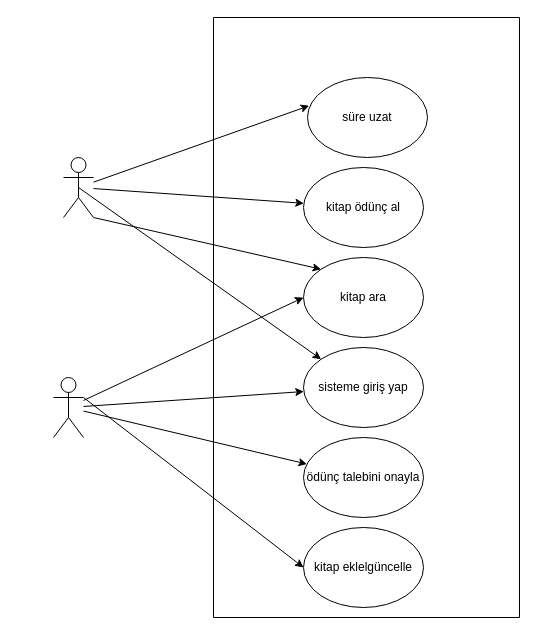
This 537x635 diagram has some shape labels left out. Each missing label, with the box of its shape:
kutuphane gorevlisi: (52, 376, 84, 438)
uye: (62, 156, 94, 218)
